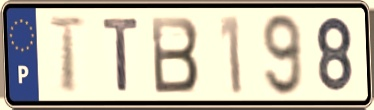1: (218, 13, 245, 97)
8: (314, 13, 356, 96)
9: (260, 11, 304, 98)
B: (148, 14, 202, 96)
T: (46, 14, 89, 95), (101, 16, 142, 95)
